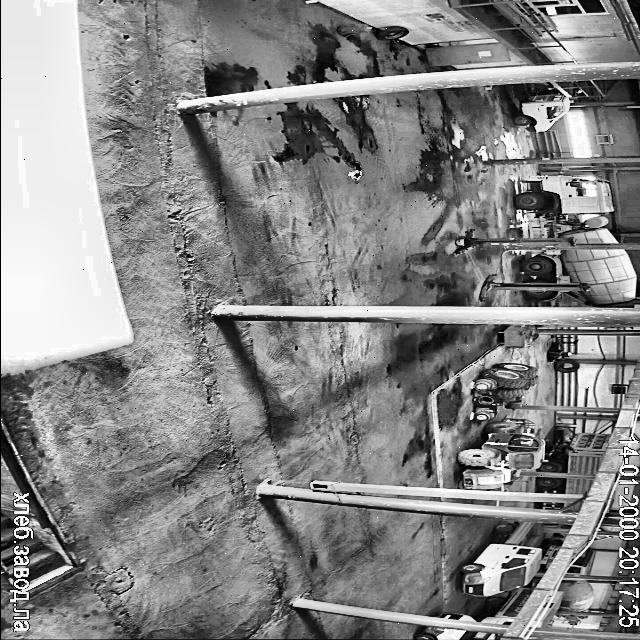car lift: (455, 229, 574, 253), (479, 274, 588, 300)
tractor: (459, 418, 544, 489), (475, 362, 537, 420)
truck: (516, 176, 616, 244), (523, 248, 636, 306), (460, 521, 540, 596), (540, 433, 611, 473), (515, 93, 571, 130), (487, 588, 532, 621), (413, 626, 498, 640), (557, 580, 594, 610), (538, 477, 592, 494), (538, 592, 562, 627), (567, 548, 595, 574), (541, 534, 563, 567), (439, 613, 476, 620), (543, 500, 563, 508), (564, 616, 585, 621), (572, 508, 578, 510)
